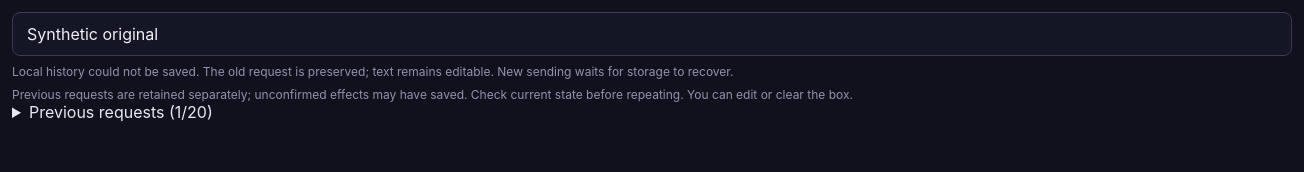
Scenario: failed archive persistence preserves the old slot without trapping typing or backspace
Replace the text in the field named "Ask Hermes about tasks, projects, or calendar" with "Editable draft". click: (652, 34)
box: top-left (12, 12), bottom-right (1292, 56)
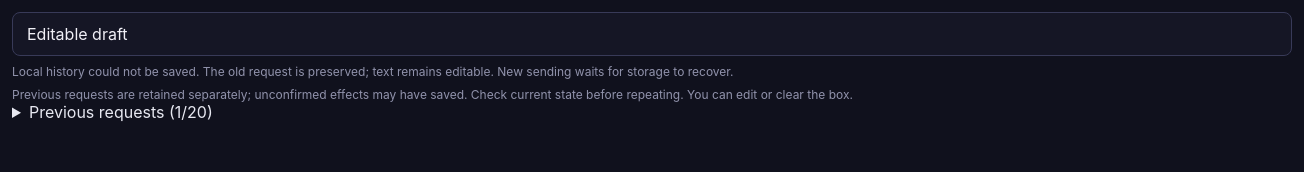
Submit the form named "Ask Hermes about tasks, projects, or calendar"
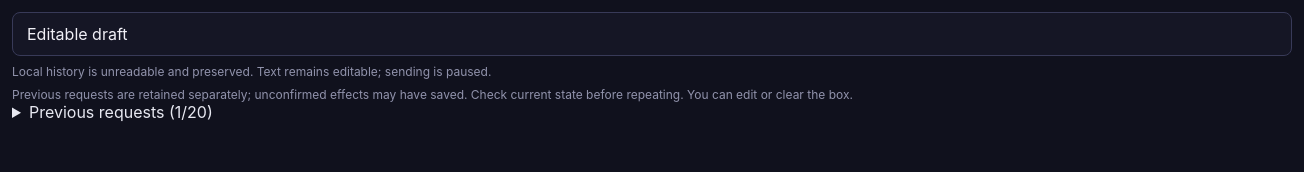
expect the text "Local history is unreadable" is shown: met, box top-left (12, 64), bottom-right (491, 79)
